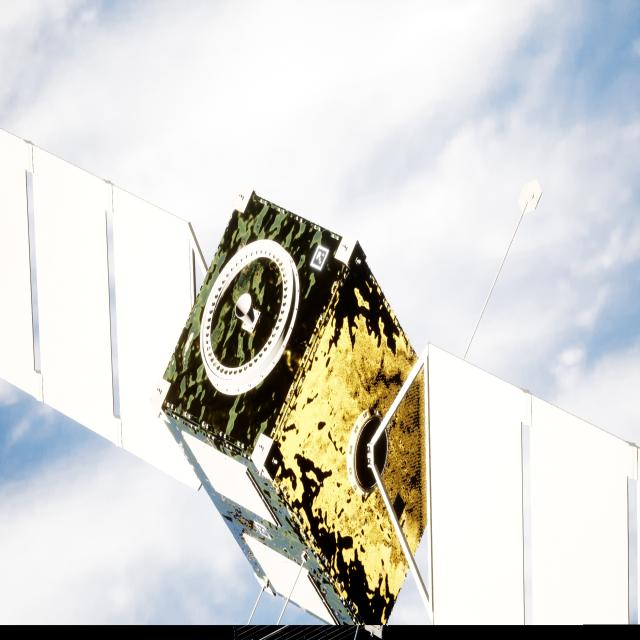medium_debris: (0, 130, 637, 632)
